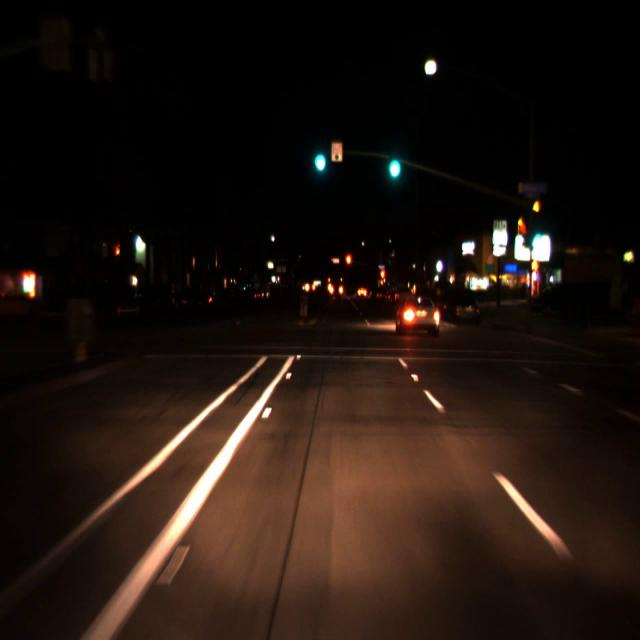go: (384, 136, 402, 186), (310, 132, 328, 178), (528, 222, 544, 252)
go traffic light: (384, 136, 402, 186), (310, 132, 328, 178), (528, 222, 544, 252)
stop: (344, 252, 353, 277), (379, 267, 385, 291)
stop traffic light: (344, 252, 353, 277), (379, 267, 385, 291)
